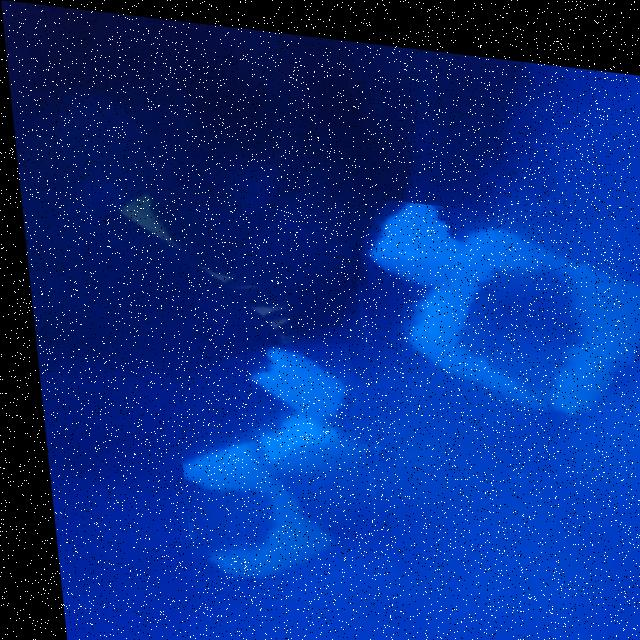litter: (343, 187, 640, 434), (160, 325, 386, 603), (156, 380, 387, 603), (247, 345, 372, 425)
